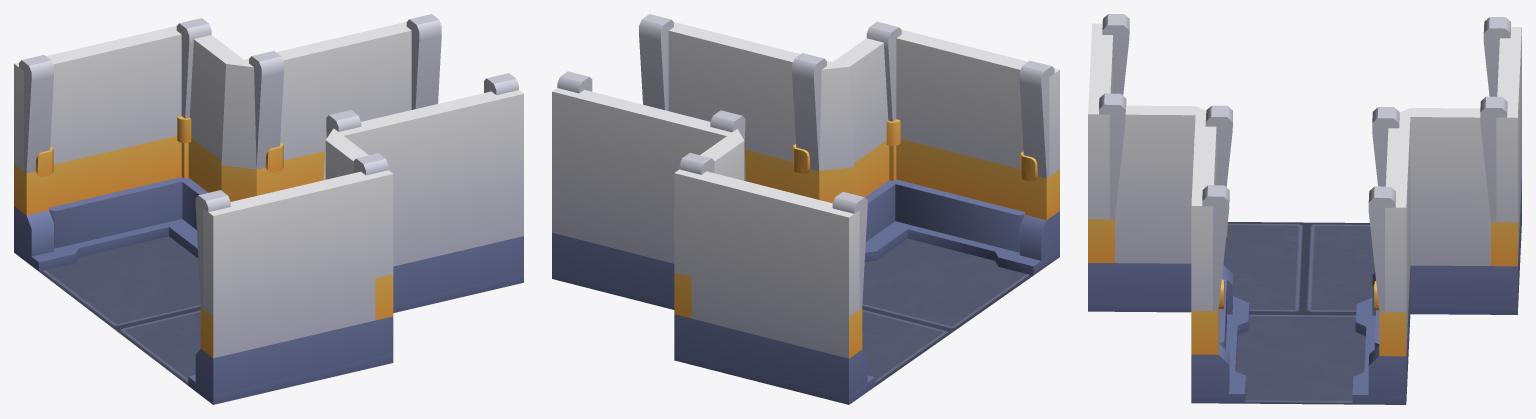
File: corridor-transition.001_lev4.glb
3 renders of one model, left to right at view 1: azimuth 30°, elevation 25°; view 2: azimuth 150°, elevation 25°; view 3: azimuth 270°, elevation 25°, orthographic. The views are drawn at different scales.
Parts seen in each view (by area): view 1: corridor-transition.001_lev4; view 2: corridor-transition.001_lev4; view 3: corridor-transition.001_lev4.
Part boxes in pixels (x1,y1,x2,y2): corridor-transition.001_lev4: (14, 14, 523, 404); corridor-transition.001_lev4: (552, 14, 1059, 404); corridor-transition.001_lev4: (1088, 14, 1521, 404).
Bounding box in the file's own units: 24.34 × 12.75 × 24.22.
1 material, 1 textured.
